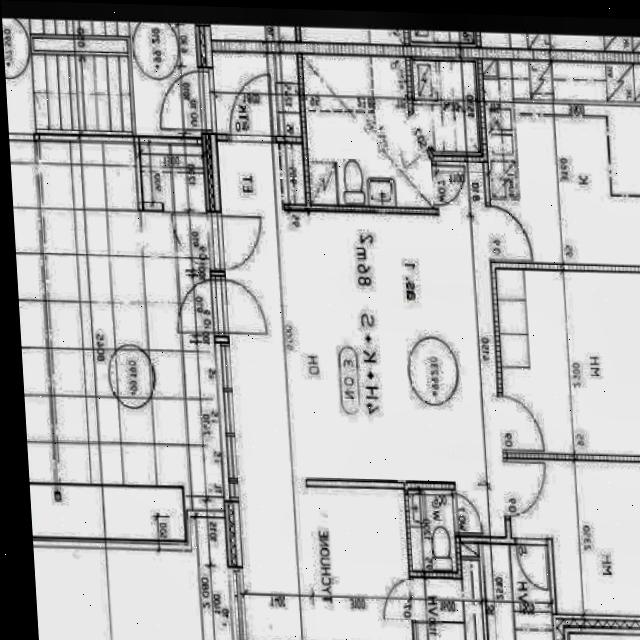room: (482, 60, 640, 267), (299, 55, 484, 211), (496, 269, 640, 457), (409, 536, 556, 640), (407, 487, 457, 576)
